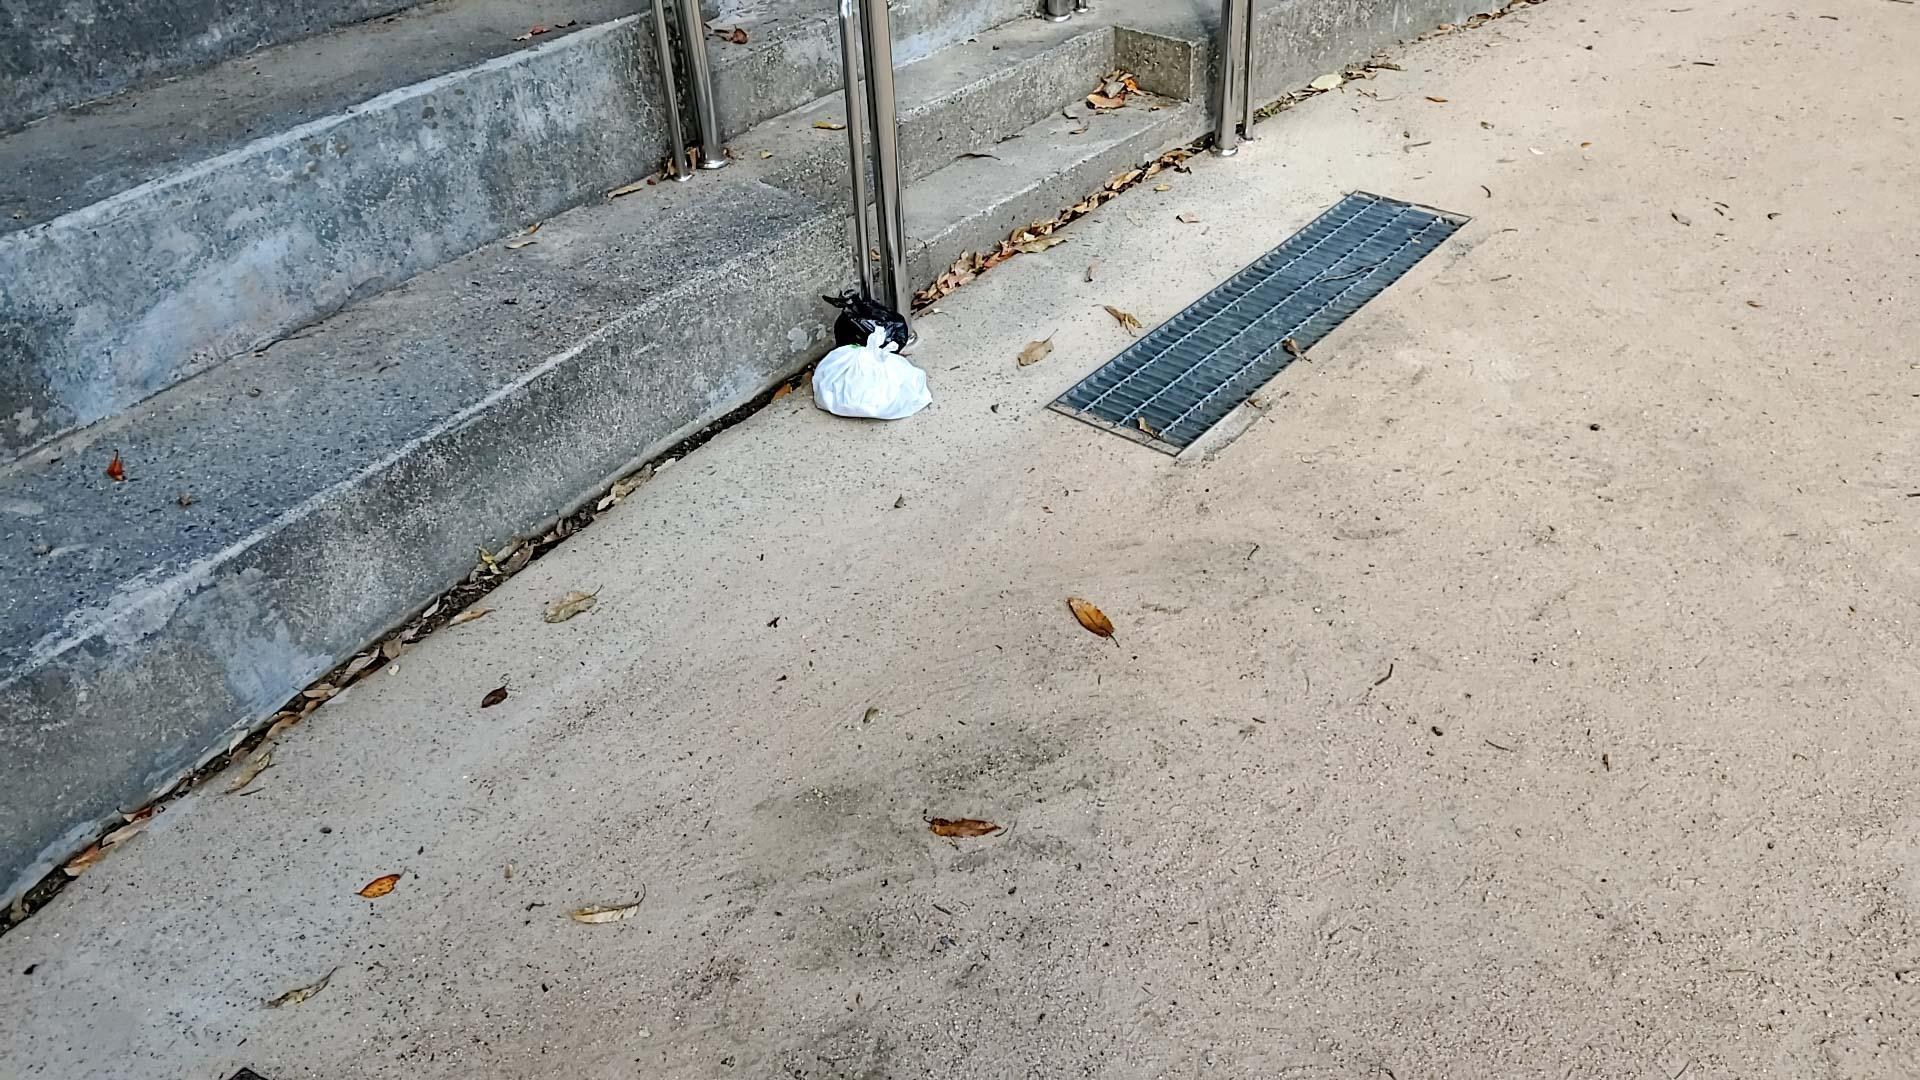white_bag: (803, 324, 936, 419), (820, 289, 909, 357)
